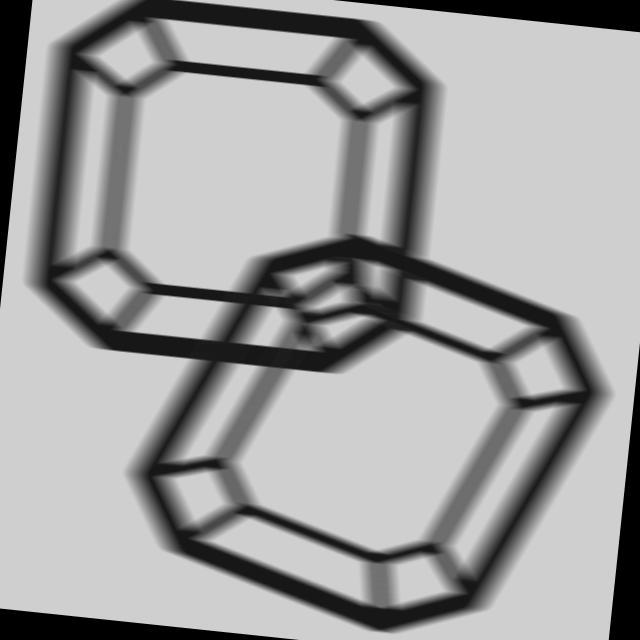emerald: (99, 218, 633, 640), (4, 1, 471, 409)
